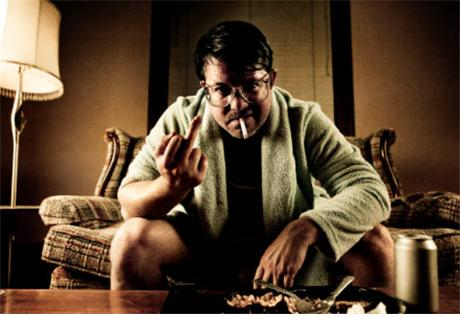cigarette: (238, 116, 249, 140)
insulting_gesture: (154, 115, 208, 190)
